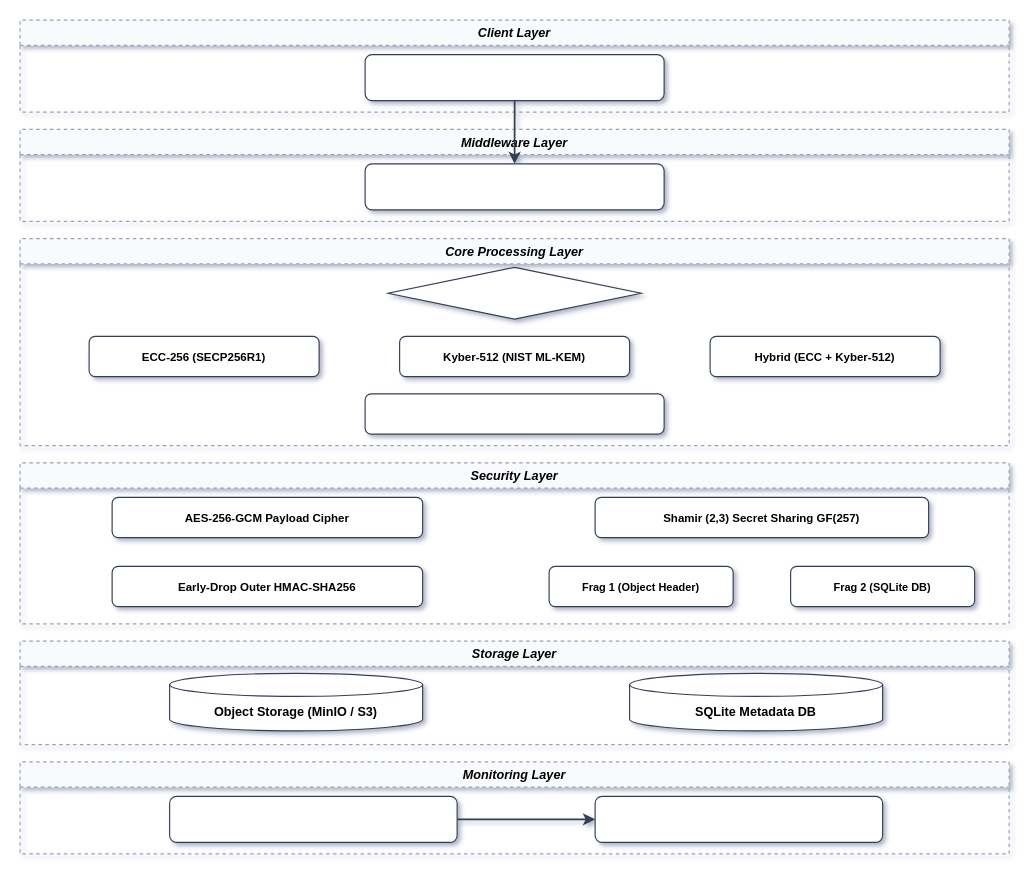
Some shapes in this 1036 by 881 pixel diagram are drawn without their labels. The shapes that lost their labels are listed below. From the top down, each one's centre as x and y in pixels, then its label:
At (x=514, y=77): "Web Client / REST API Interface".
At (x=514, y=186): "Flask REST API Gateway".
At (x=514, y=292): "Adaptive Decision Engine".
At (x=514, y=413): "HKDF-SHA256 Key Derivation".
At (x=312, y=818): "Hash-Chain Audit Logger".
At (x=738, y=818): "Real-Time Anomaly Engine".
